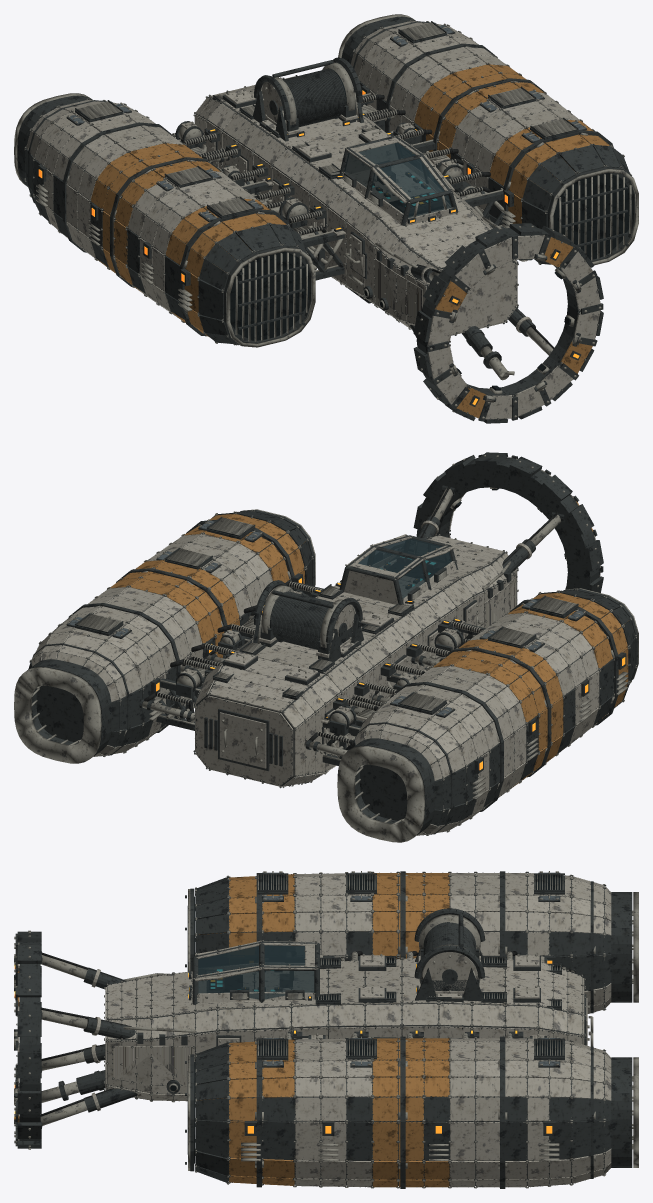
File: bollard-hull.glb
3 renders of one model, top to bottom at view 1: azimuth 30°, elevation 25°; view 2: azimuth 150°, elevation 25°; view 3: azimuth 270°, elevation 25°, orthographic. The views are drawn at different scales.
Parts seen in each view (by area): view 1: dark-structure, pale-steel-1, machined-alloy, service-ochre, pale-steel-0, pale-steel-2, recess-black, canopy-glass, hose-rubber, blue-grey-1, pressure-hull, engine-port (+1 smaller); view 2: dark-structure, machined-alloy, pale-steel-0, pale-steel-1, pale-steel-2, service-ochre, engine-port, engine-starboard, hose-rubber, canopy-glass, pressure-hull, blue-grey-1 (+1 smaller); view 3: dark-structure, pale-steel-1, pale-steel-0, pale-steel-2, service-ochre, machined-alloy, canopy-glass, recess-black, engine-starboard, pressure-hull, engine-port, hose-rubber (+1 smaller).
Part boxes in pixels (<box>): dark-structure: <box>17,16,634,423</box>; pale-steel-1: <box>26,21,600,419</box>; machined-alloy: <box>14,14,638,419</box>; service-ochre: <box>91,64,609,418</box>; pale-steel-0: <box>44,21,559,335</box>; pale-steel-2: <box>32,21,578,328</box>; recess-black: <box>91,33,632,390</box>; canopy-glass: <box>344,142,451,218</box>; hose-rubber: <box>172,94,554,348</box>; blue-grey-1: <box>69,25,585,220</box>; pressure-hull: <box>196,97,516,288</box>; engine-port: <box>32,117,308,341</box>; dark-structure: <box>27,452,638,835</box>; machined-alloy: <box>14,455,638,842</box>; pale-steel-0: <box>32,520,598,834</box>; pale-steel-1: <box>31,457,600,835</box>; pale-steel-2: <box>59,535,599,835</box>; service-ochre: <box>110,501,628,787</box>; engine-port: <box>360,612,621,820</box>; engine-starboard: <box>36,533,302,741</box>; hose-rubber: <box>144,486,558,746</box>; canopy-glass: <box>358,538,451,598</box>; pressure-hull: <box>195,552,516,785</box>; blue-grey-1: <box>68,520,583,715</box>; dark-structure: <box>14,871,632,1188</box>; pale-steel-1: <box>17,873,611,1187</box>; pale-steel-0: <box>91,875,611,1187</box>; pale-steel-2: <box>107,873,611,1187</box>; service-ochre: <box>17,873,449,1187</box>; machined-alloy: <box>14,871,638,1188</box>; canopy-glass: <box>198,945,314,999</box>; recess-black: <box>170,875,563,1163</box>; engine-starboard: <box>195,1039,610,1185</box>; pressure-hull: <box>107,960,582,1099</box>; engine-port: <box>195,874,610,1007</box>; hose-rubber: <box>40,951,571,1116</box>.
Size of the model in its own units: 48.3 by 21.17 by 56.52.
Materials: 12 (9 with a texture image).
